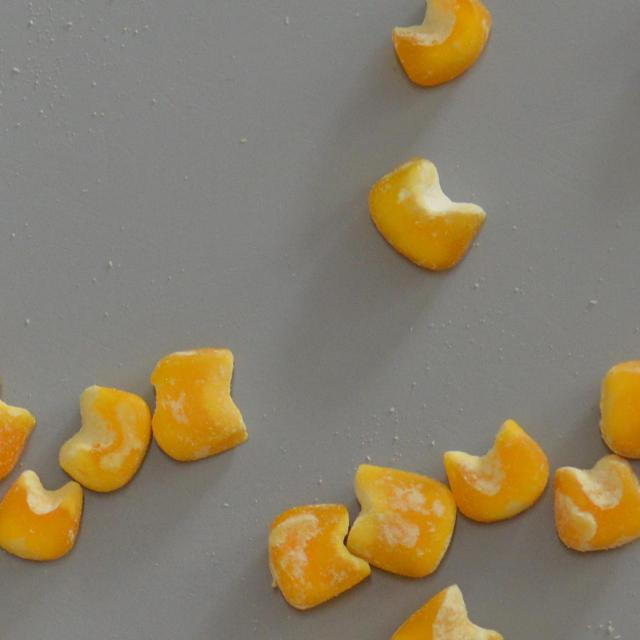no_canjicado: (444, 412, 547, 527), (52, 382, 154, 496), (0, 469, 82, 560)
pelicula: (366, 156, 487, 273), (345, 462, 458, 578), (266, 502, 372, 612), (149, 346, 248, 462), (552, 452, 640, 554), (391, 0, 492, 88), (384, 582, 506, 640), (596, 358, 640, 457), (0, 370, 36, 484)
